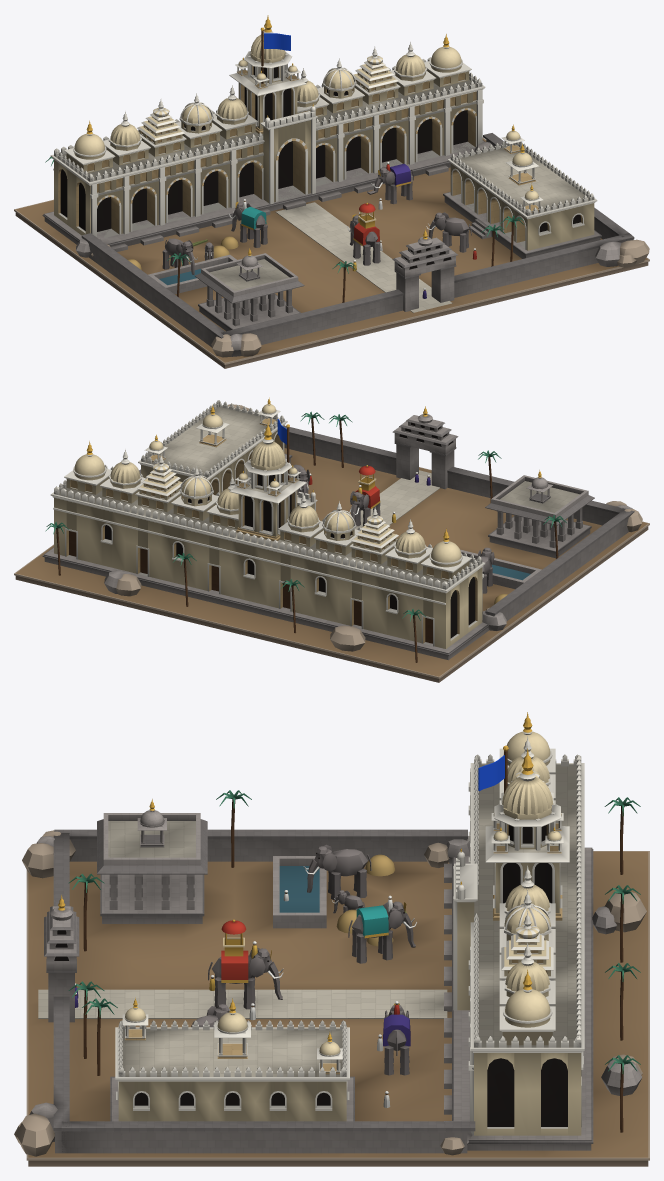
Rendered from lm_filahiri.glb.
3 renders of one model, top to bottom at view 1: azimuth 30°, elevation 25°; view 2: azimuth 150°, elevation 25°; view 3: azimuth 270°, elevation 25°, orthographic. The views are drawn at different scales.
Visible parts, largest first — view 1: lm_filahiri; view 2: lm_filahiri; view 3: lm_filahiri.
Boxes of the visible parts, x1,y1,x2,y2 form: lm_filahiri: (14,15,649,368); lm_filahiri: (14,397,649,682); lm_filahiri: (14,712,649,1166).
Size of the model in its own units: 2.2 by 0.8766 by 1.9.
Materials: 1 (1 with a texture image).
